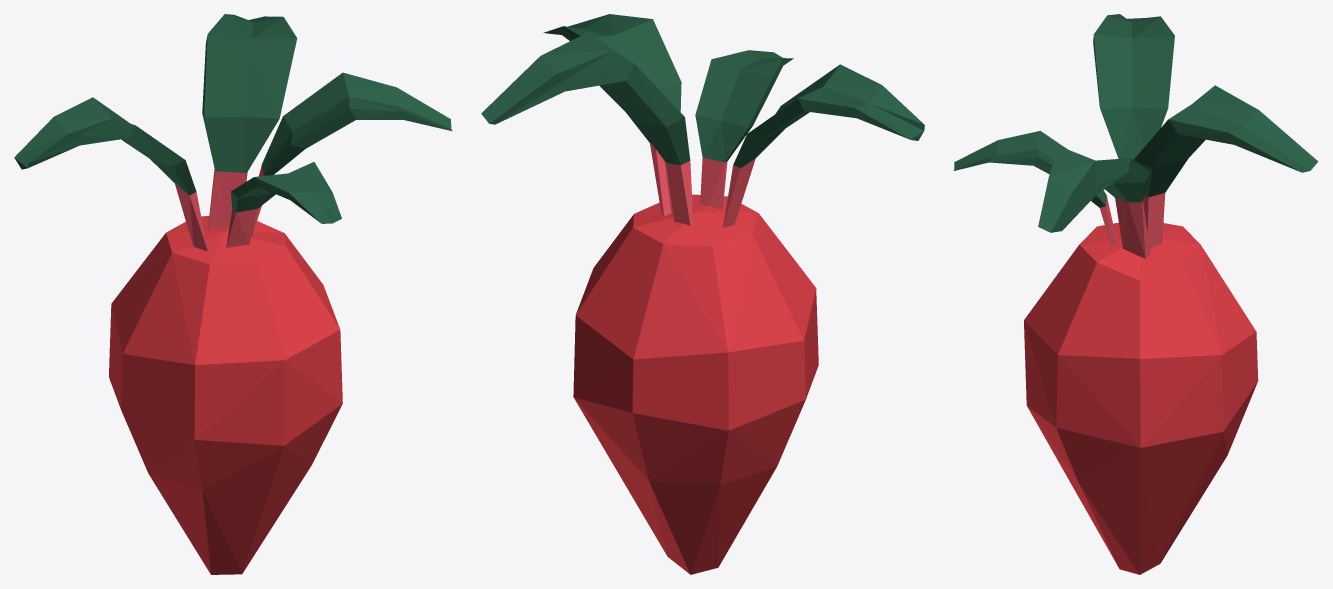
The model's file is Beetroot_L.fbx.
3 views of the same model, side by side, from view 1: azimuth 30°, elevation 25°; view 2: azimuth 150°, elevation 25°; view 3: azimuth 270°, elevation 25° (orthographic). The views are drawn at different scales.
Parts seen in each view (by area): view 1: Beetroot_L; view 2: Beetroot_L; view 3: Beetroot_L.
Part boxes in pixels (x1,y1,x2,y2): Beetroot_L: [14, 14, 452, 574]; Beetroot_L: [481, 14, 924, 574]; Beetroot_L: [953, 14, 1318, 574].
Bounding box in the file's own units: 44.09 × 53.69 × 36.18.
